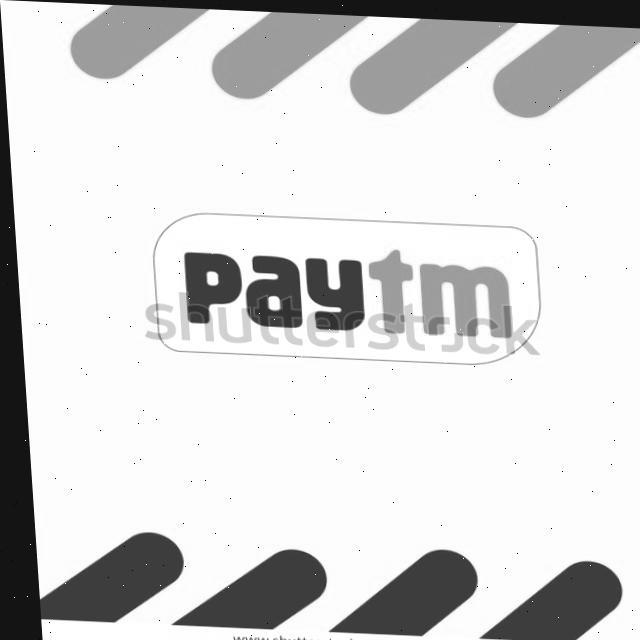fully_visible: (170, 237, 522, 353)
